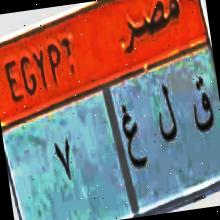7: (50, 134, 77, 184)
ghayn: (116, 101, 152, 180)
laam: (148, 76, 181, 154)
qaaf: (185, 70, 218, 144)
